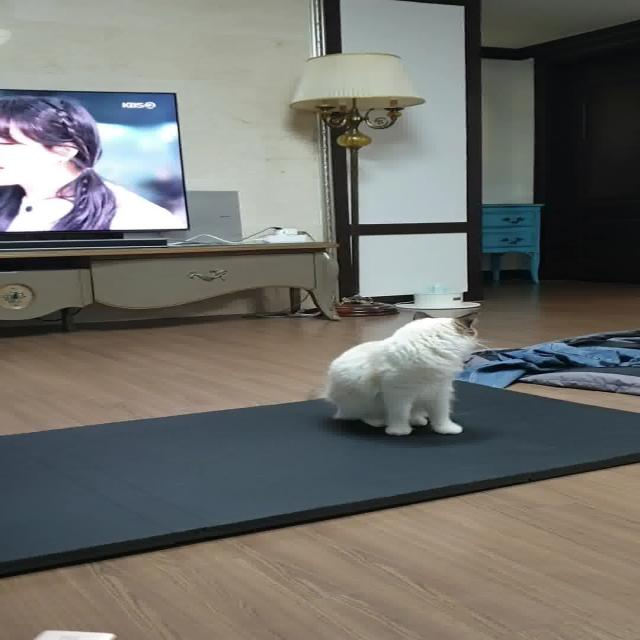cat: (302, 301, 508, 447)
